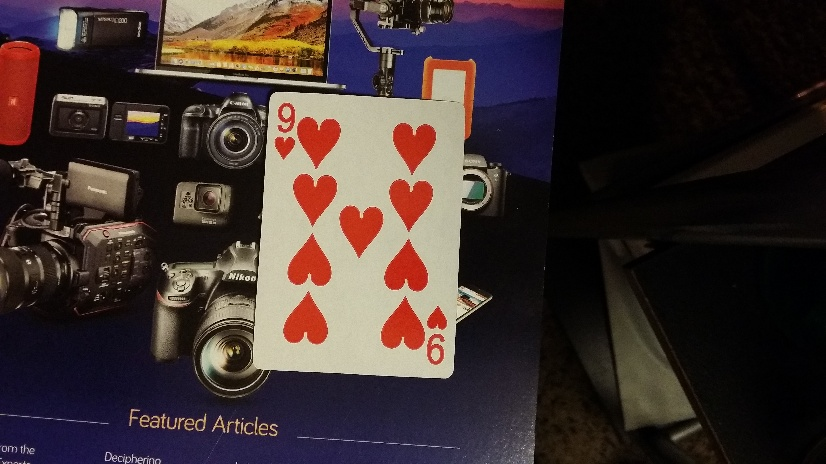H9: (425, 303, 449, 369), (274, 100, 297, 160)
